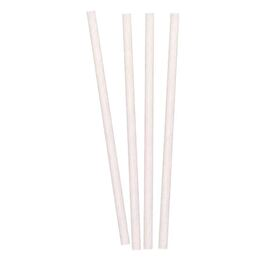Drinking Straw: (83, 9, 132, 247), (142, 11, 156, 252)
